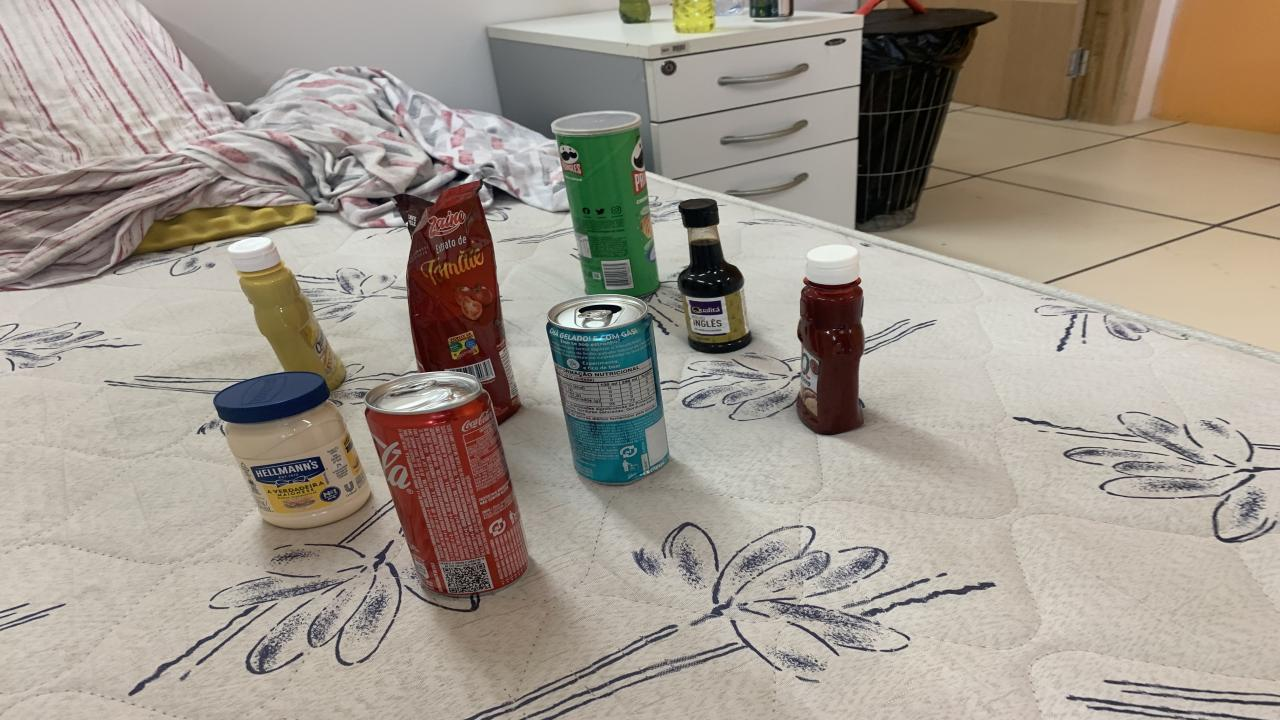Coke-Drinks: (365, 371, 528, 596)
Detergent-Cleanup_Items: (672, 0, 715, 34)
English_Sauce-Pantry_Items: (678, 199, 750, 352)
Guarana-Drinks: (620, 0, 650, 24)
Guarana_Can-Drinks: (750, 0, 792, 21)
Ketchup-Pantry_Items: (798, 244, 865, 435)
Mayonnaise-Pantry_Items: (212, 371, 370, 529)
Mustard-Pantry_Items: (228, 236, 345, 390), (298, 446, 300, 450)
Pringles-Snacks: (550, 111, 660, 296)
Tea-Drinks: (548, 294, 670, 484)
Tomato_Sauce-Pantry_Items: (398, 182, 520, 420)
